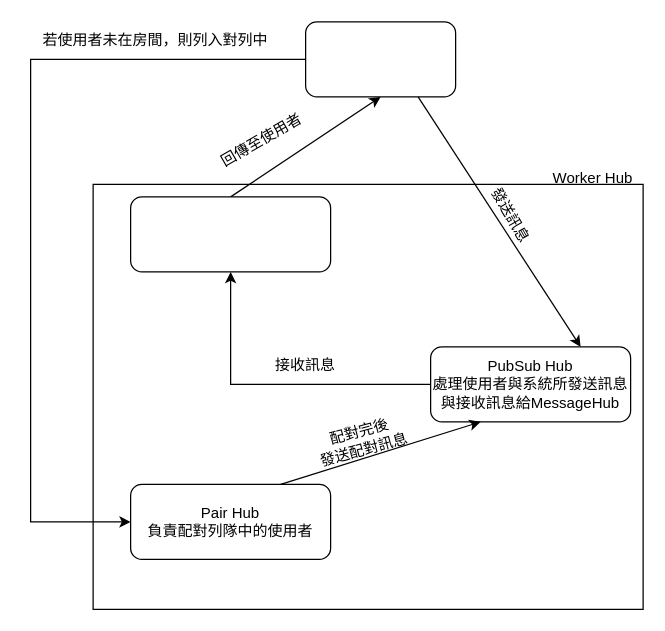
This 665x631 diagram has some shape labels left out. The shapes that lost their labels are listed below. From the top down, each one's centre as x and y in pixels, then its label:
pixel 380 59: Client WS
pixel 230 234: Message Hub 負責處理Sub進來的訊息
